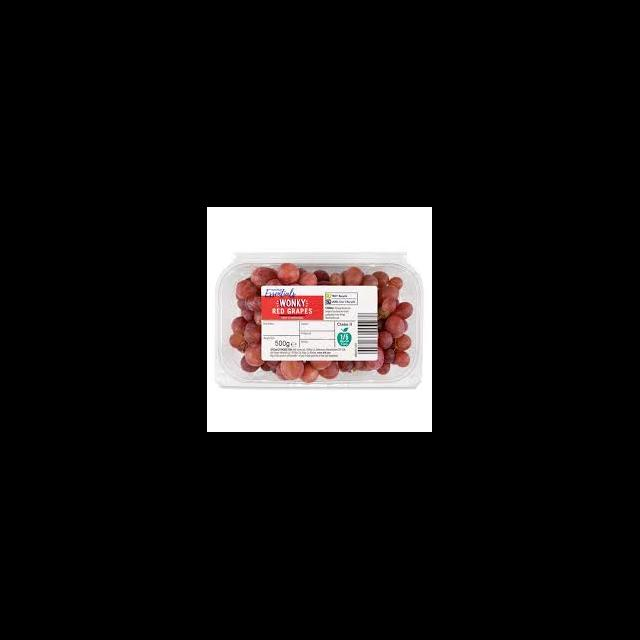grape: (228, 262, 414, 382)
